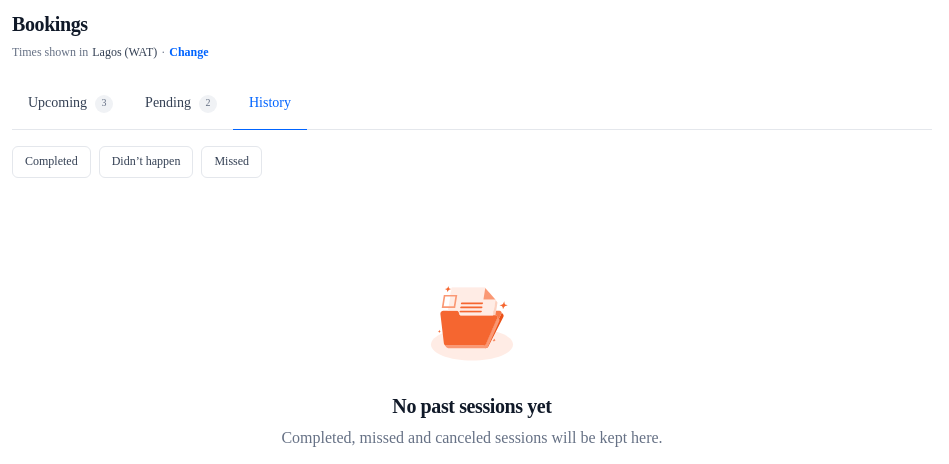
Scenario: History › a filter changes the empty state’s advice
Expected: the heading "No past sessions yet" is shown, [392,395,552,417]
What coordinates should you click on to do the following:
click the button "Completed"
I would click on:
 (51, 162)
Its box is [12,146,91,178].
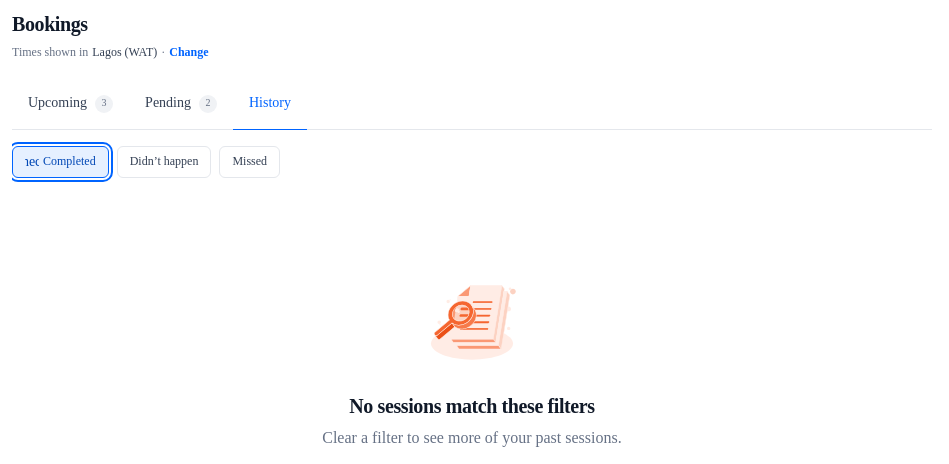
Now the heading "No sessions match these filters" is shown, box [349,395,595,417]
